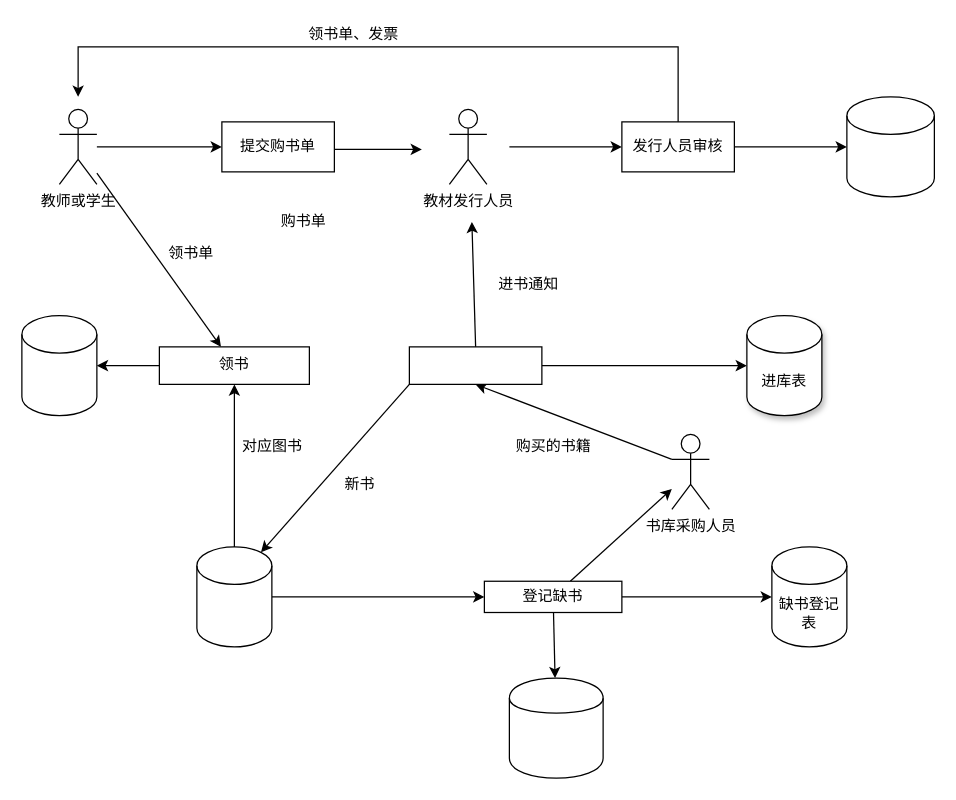
Image size: 956x800. Some labels were removed from this diagram. Here are the shapes that lost their labels. From the top down, the centre of each, then its label:
At [890,146]: "领书登记表".
At [59,365]: "出库表".
At [475,365]: "新书入库".
At [234,596]: "书库".
At [555,727]: "待购登记表".
